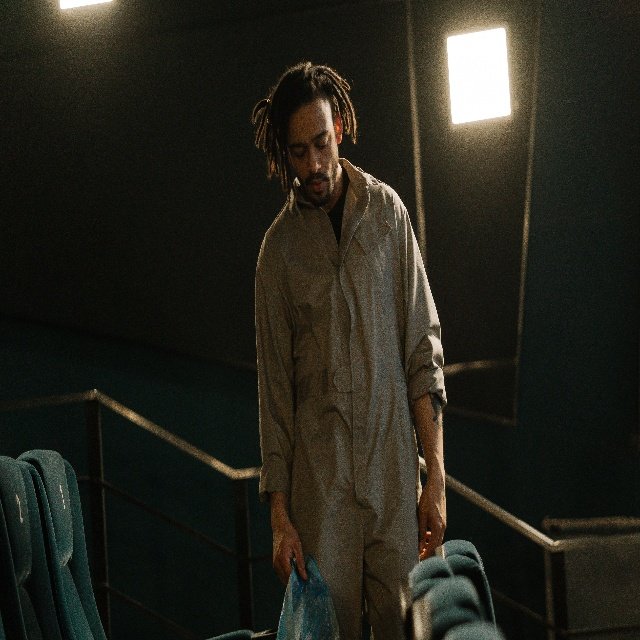Sin_guantes: (415, 473, 448, 561), (271, 521, 308, 587)
